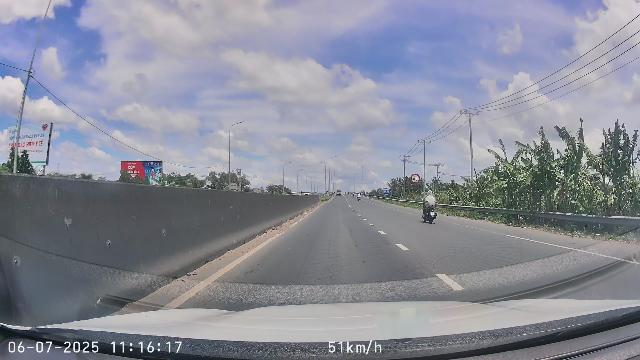127-toc-do-toi-da-60: (410, 173, 420, 184)
